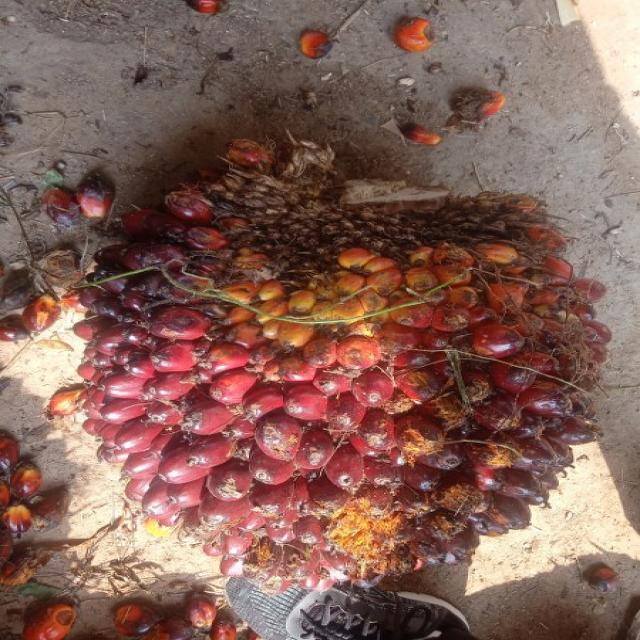fraksi 3: (74, 163, 610, 618)
